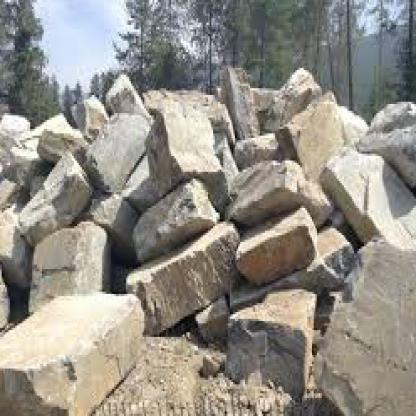Metamorphic_Quartize: (2, 269, 148, 414), (223, 276, 322, 377), (233, 201, 324, 276), (89, 108, 153, 186)
